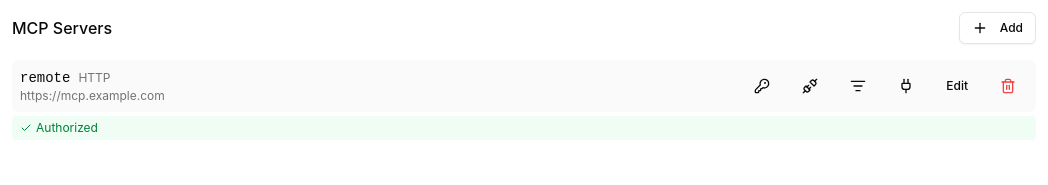
McpServerSection › clears a connect error when disconnecting, and refetches once disconnected
The image size is (1048, 185).
Click the button titled "Re-authorize with OAuth" at (762, 86), box [742,70,782,102]
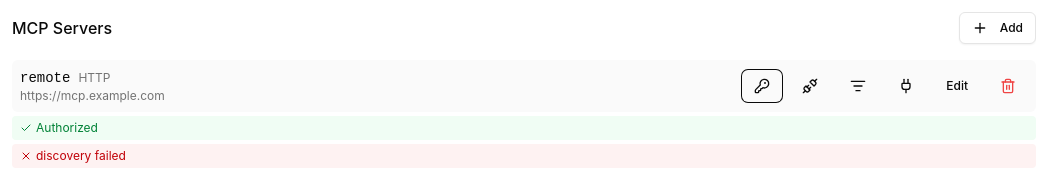
Expected: the text "discovery failed" is shown, [12,144,1036,168]
Click the button titled "Disconnect" at (810, 86), box [790,70,830,102]
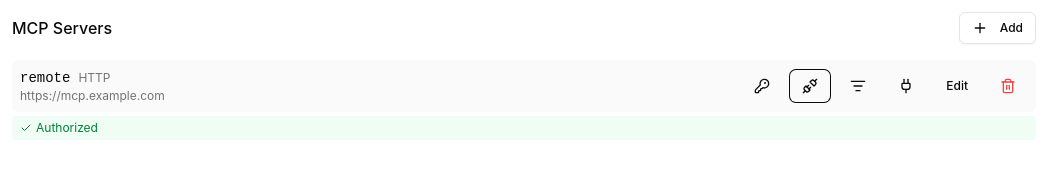
Expected: the text "discovery failed" is gone
